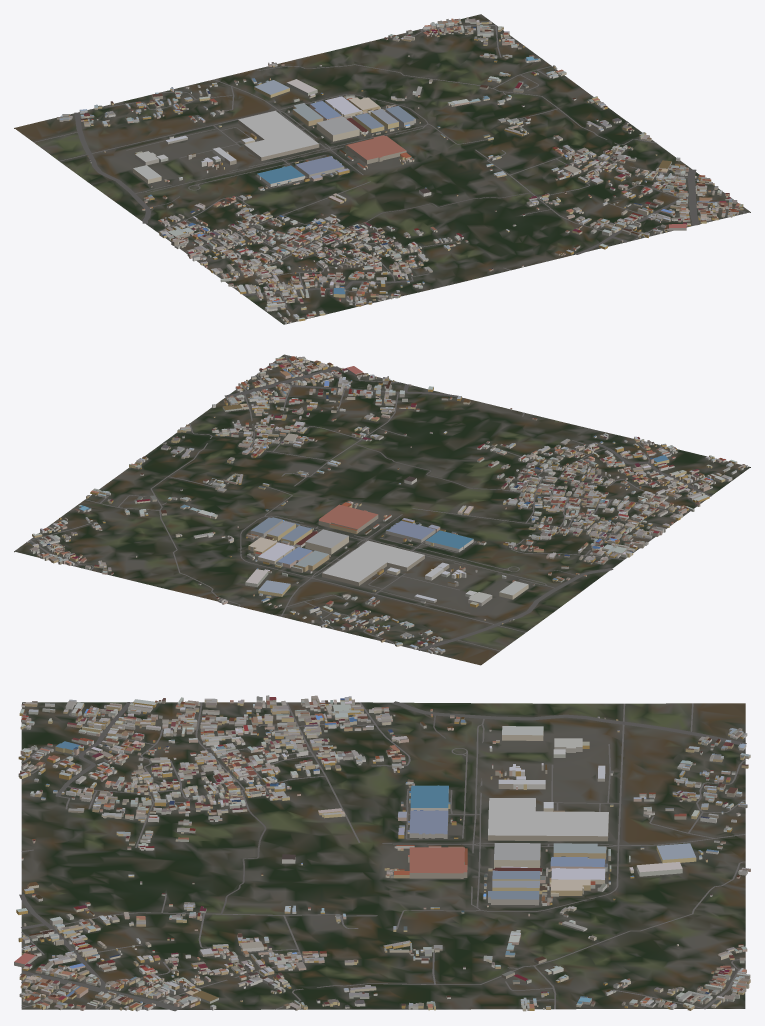
The picture shows the model from 3 angles, top to bottom: view 1: azimuth 30°, elevation 25°; view 2: azimuth 150°, elevation 25°; view 3: azimuth 270°, elevation 25°; orthographic projection. The views are drawn at different scales.
Parts seen in each view (by area): view 1: ground, buildings, roads; view 2: ground, buildings, roads; view 3: ground, buildings, roads.
Part boxes in pixels (left/top/right/bottom): ground: left=14, top=14, right=750, bottom=324; buildings: left=57, top=17, right=743, bottom=323; roads: left=33, top=25, right=748, bottom=307; ground: left=14, top=354, right=750, bottom=665; buildings: left=26, top=356, right=747, bottom=654; roads: left=29, top=355, right=711, bottom=650; ground: left=21, top=702, right=745, bottom=1009; buildings: left=14, top=695, right=750, bottom=1011; roads: left=19, top=701, right=746, bottom=1011.
Size of the model in its own units: 1417 by 22.36 by 1426.
